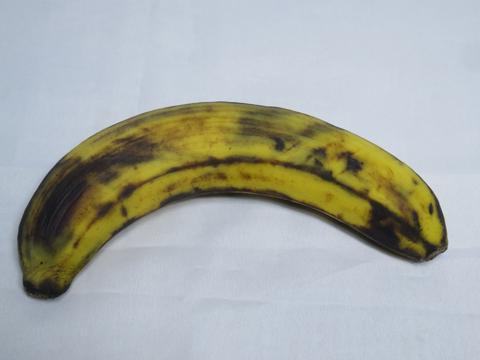overripe: (11, 89, 461, 310)
